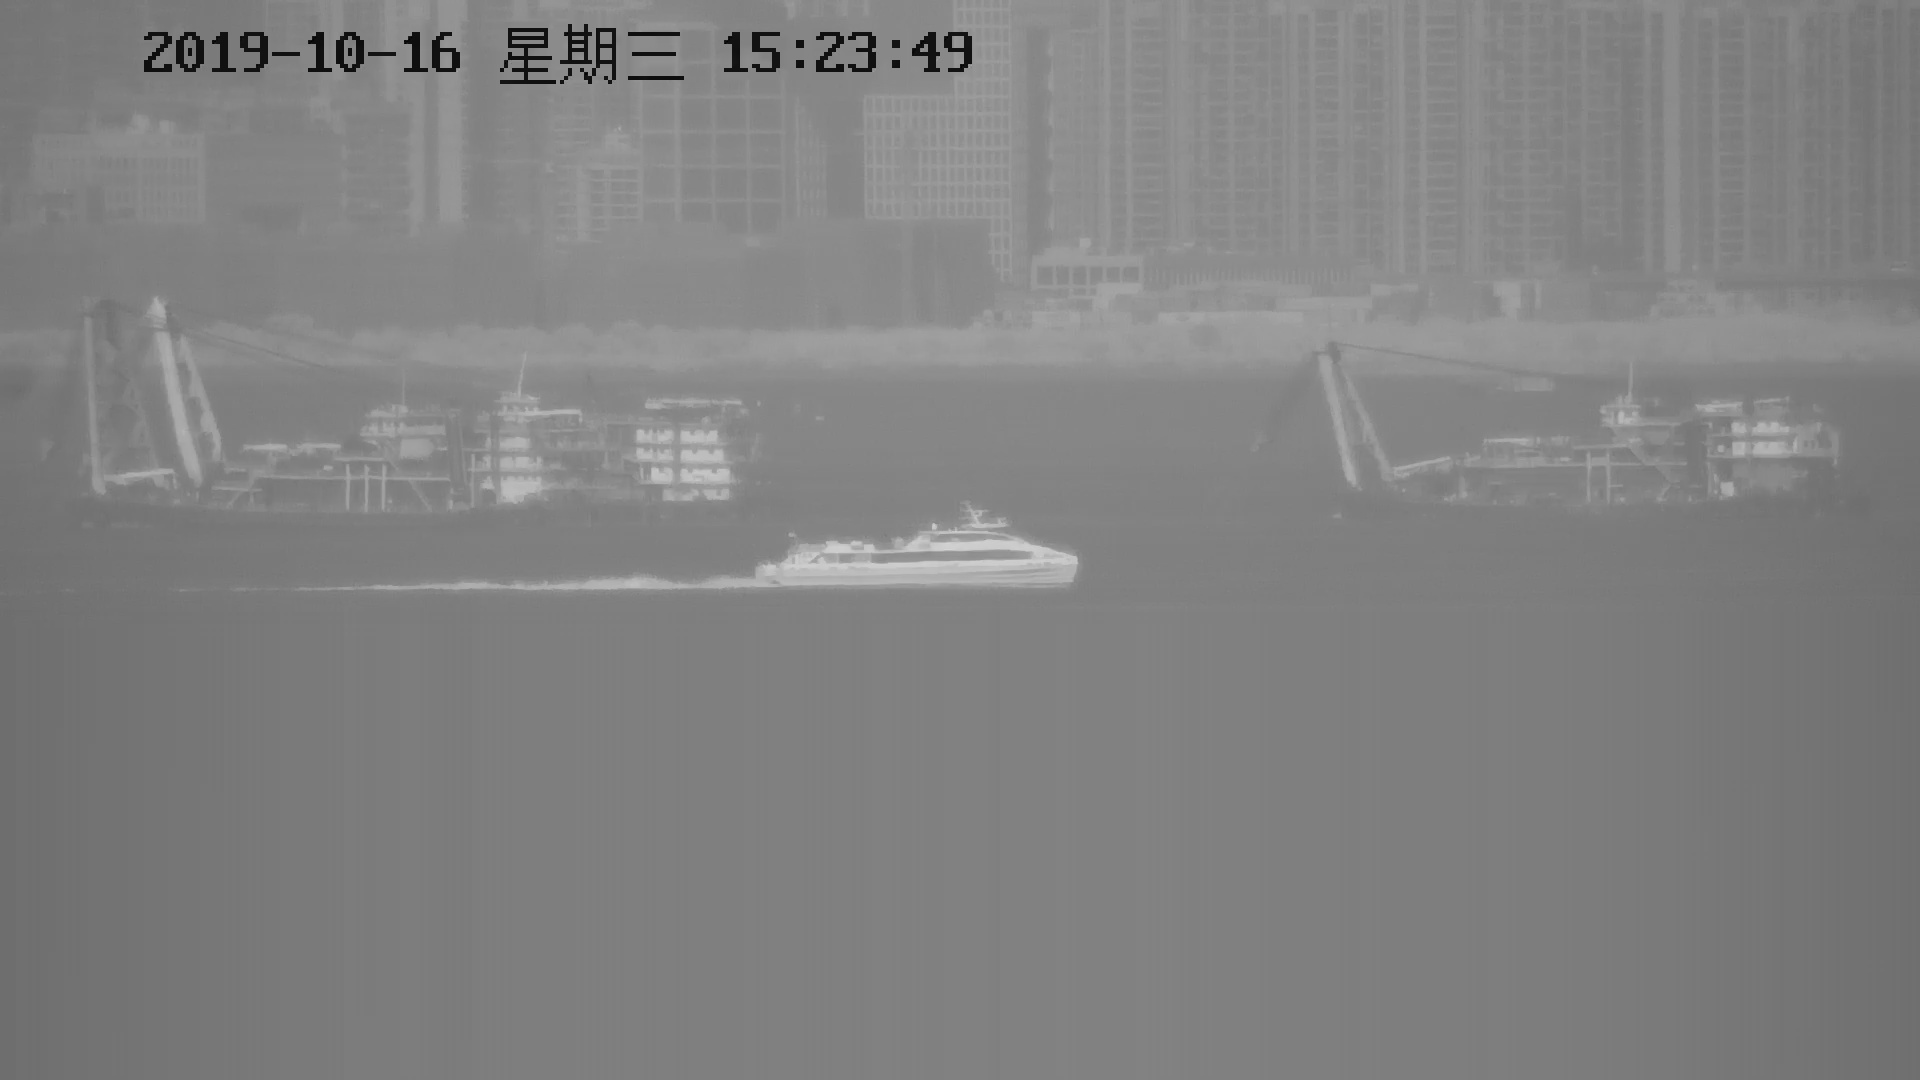ship: (62, 301, 775, 571), (1294, 342, 1851, 546), (744, 498, 1083, 591)
